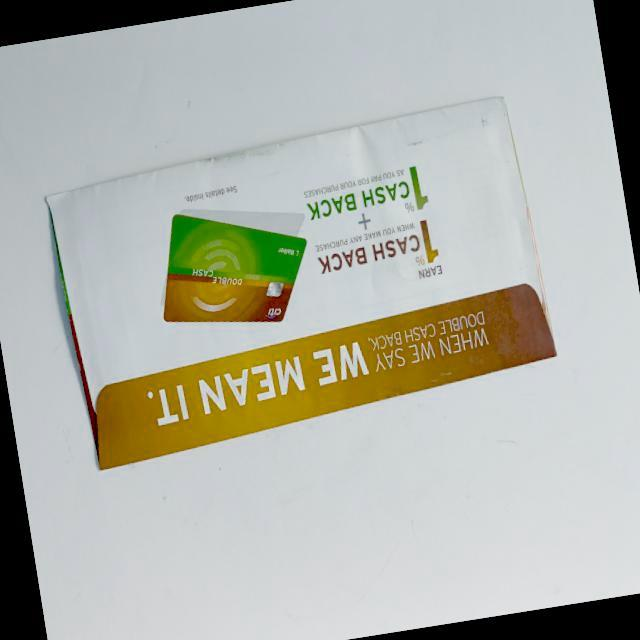paper: (43, 92, 566, 467)
